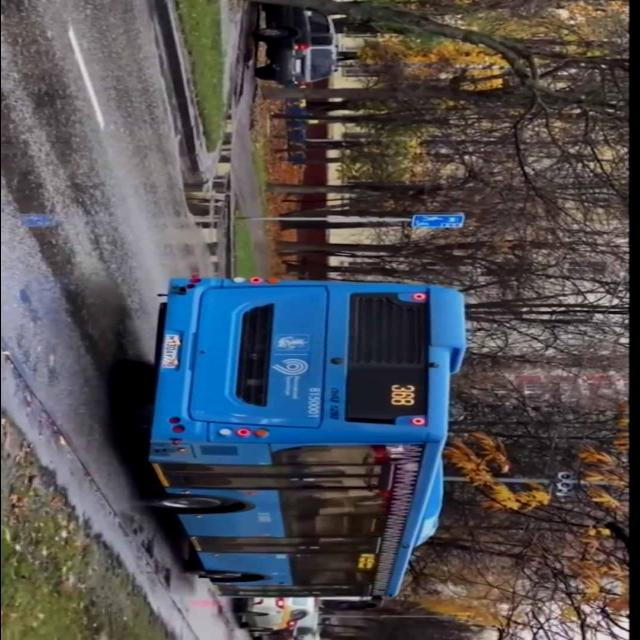bus: (124, 279, 484, 605)
